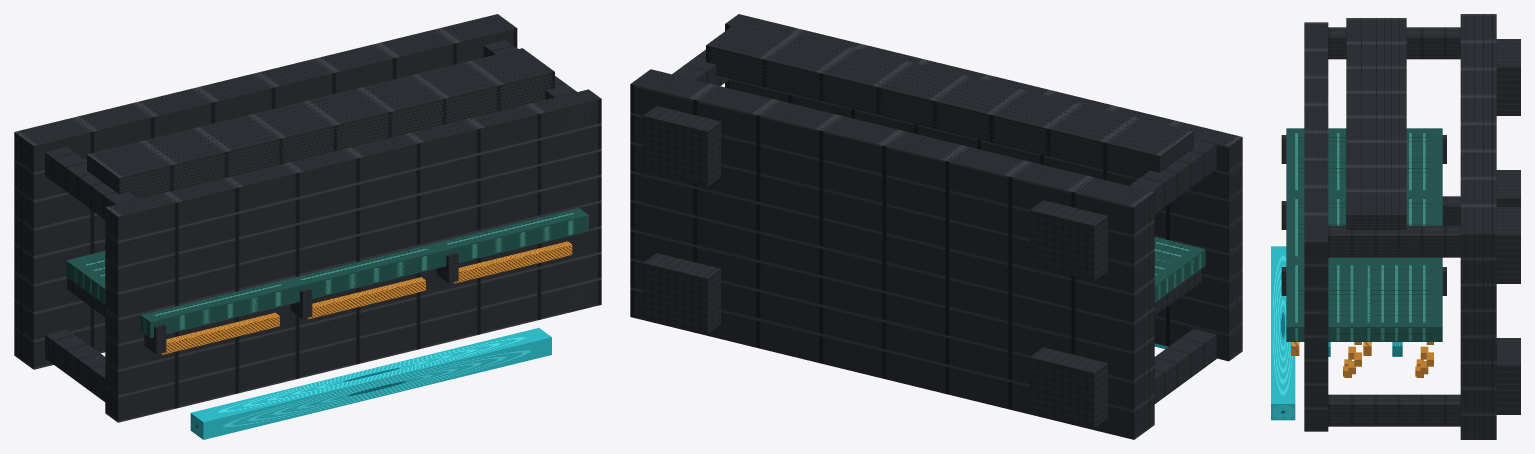
The model's file is rustchain_gpu_farm_source.obj.
3 views of the same model, side by side, from view 1: azimuth 30°, elevation 25°; view 2: azimuth 150°, elevation 25°; view 3: azimuth 270°, elevation 25° (orthographic). The views are drawn at different scales.
Parts seen in each view (by area): view 1: rustchain_gpu_farm; view 2: rustchain_gpu_farm; view 3: rustchain_gpu_farm.
Boxes of the visible parts, x1,y1,x2,y2 form: rustchain_gpu_farm: (14,14,601,439); rustchain_gpu_farm: (630,14,1242,439); rustchain_gpu_farm: (1271,14,1520,439).
Size of the model in its own units: 1.72 by 0.825 by 0.83.
4 materials, 4 textured.
